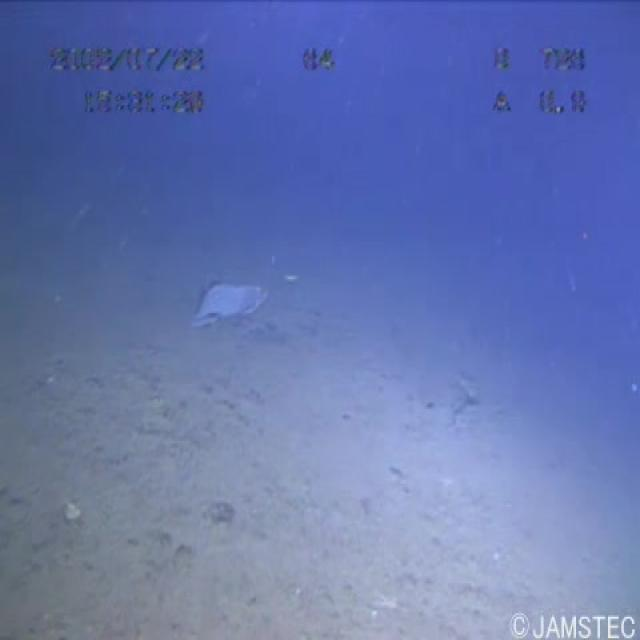plastic: (171, 258, 277, 352)
